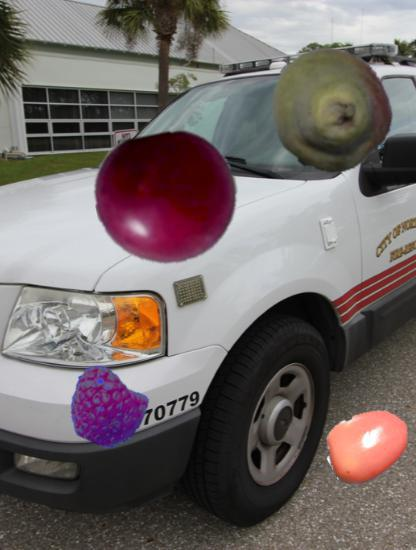Cherry: (95, 127, 239, 271)
Kaki: (325, 402, 412, 489)
Pear: (267, 47, 394, 174)
Raspberry: (66, 368, 146, 448)
